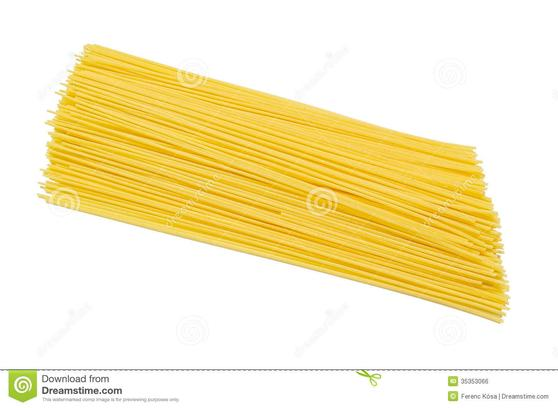spaghetti: (45, 35, 524, 329)
